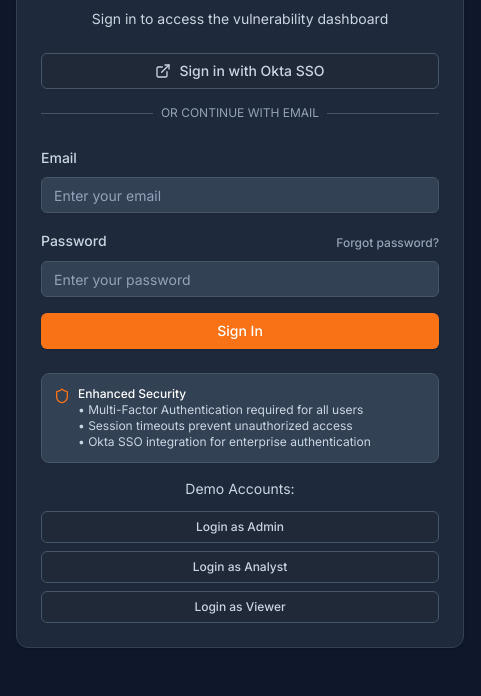
Test: LoginForm Component - Comprehensive Test Suite › Demo Account Login Functionality › should display error when demo login fails
(page scrolled)
Click the button "Login as Admin": x=240, y=527 x1=41 y1=511 x2=439 y2=543
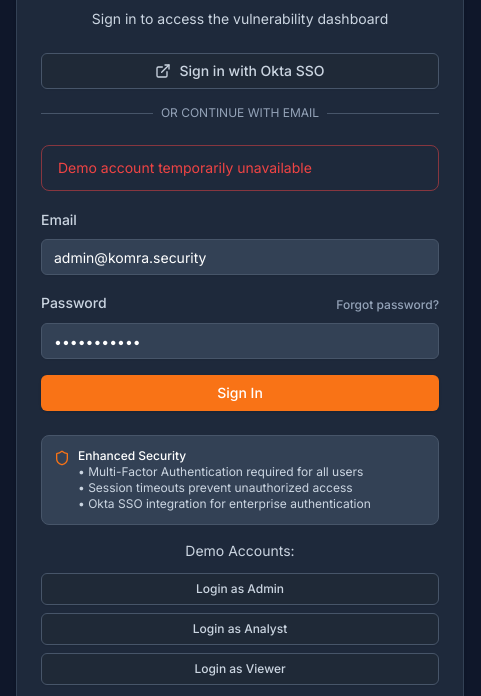
Expected: the text "Demo account temporarily unavailable" is shown, x1=58 y1=159 x2=312 y2=176
